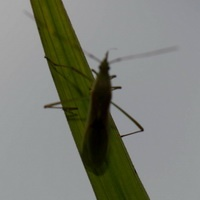insect: (80, 51, 143, 174)
